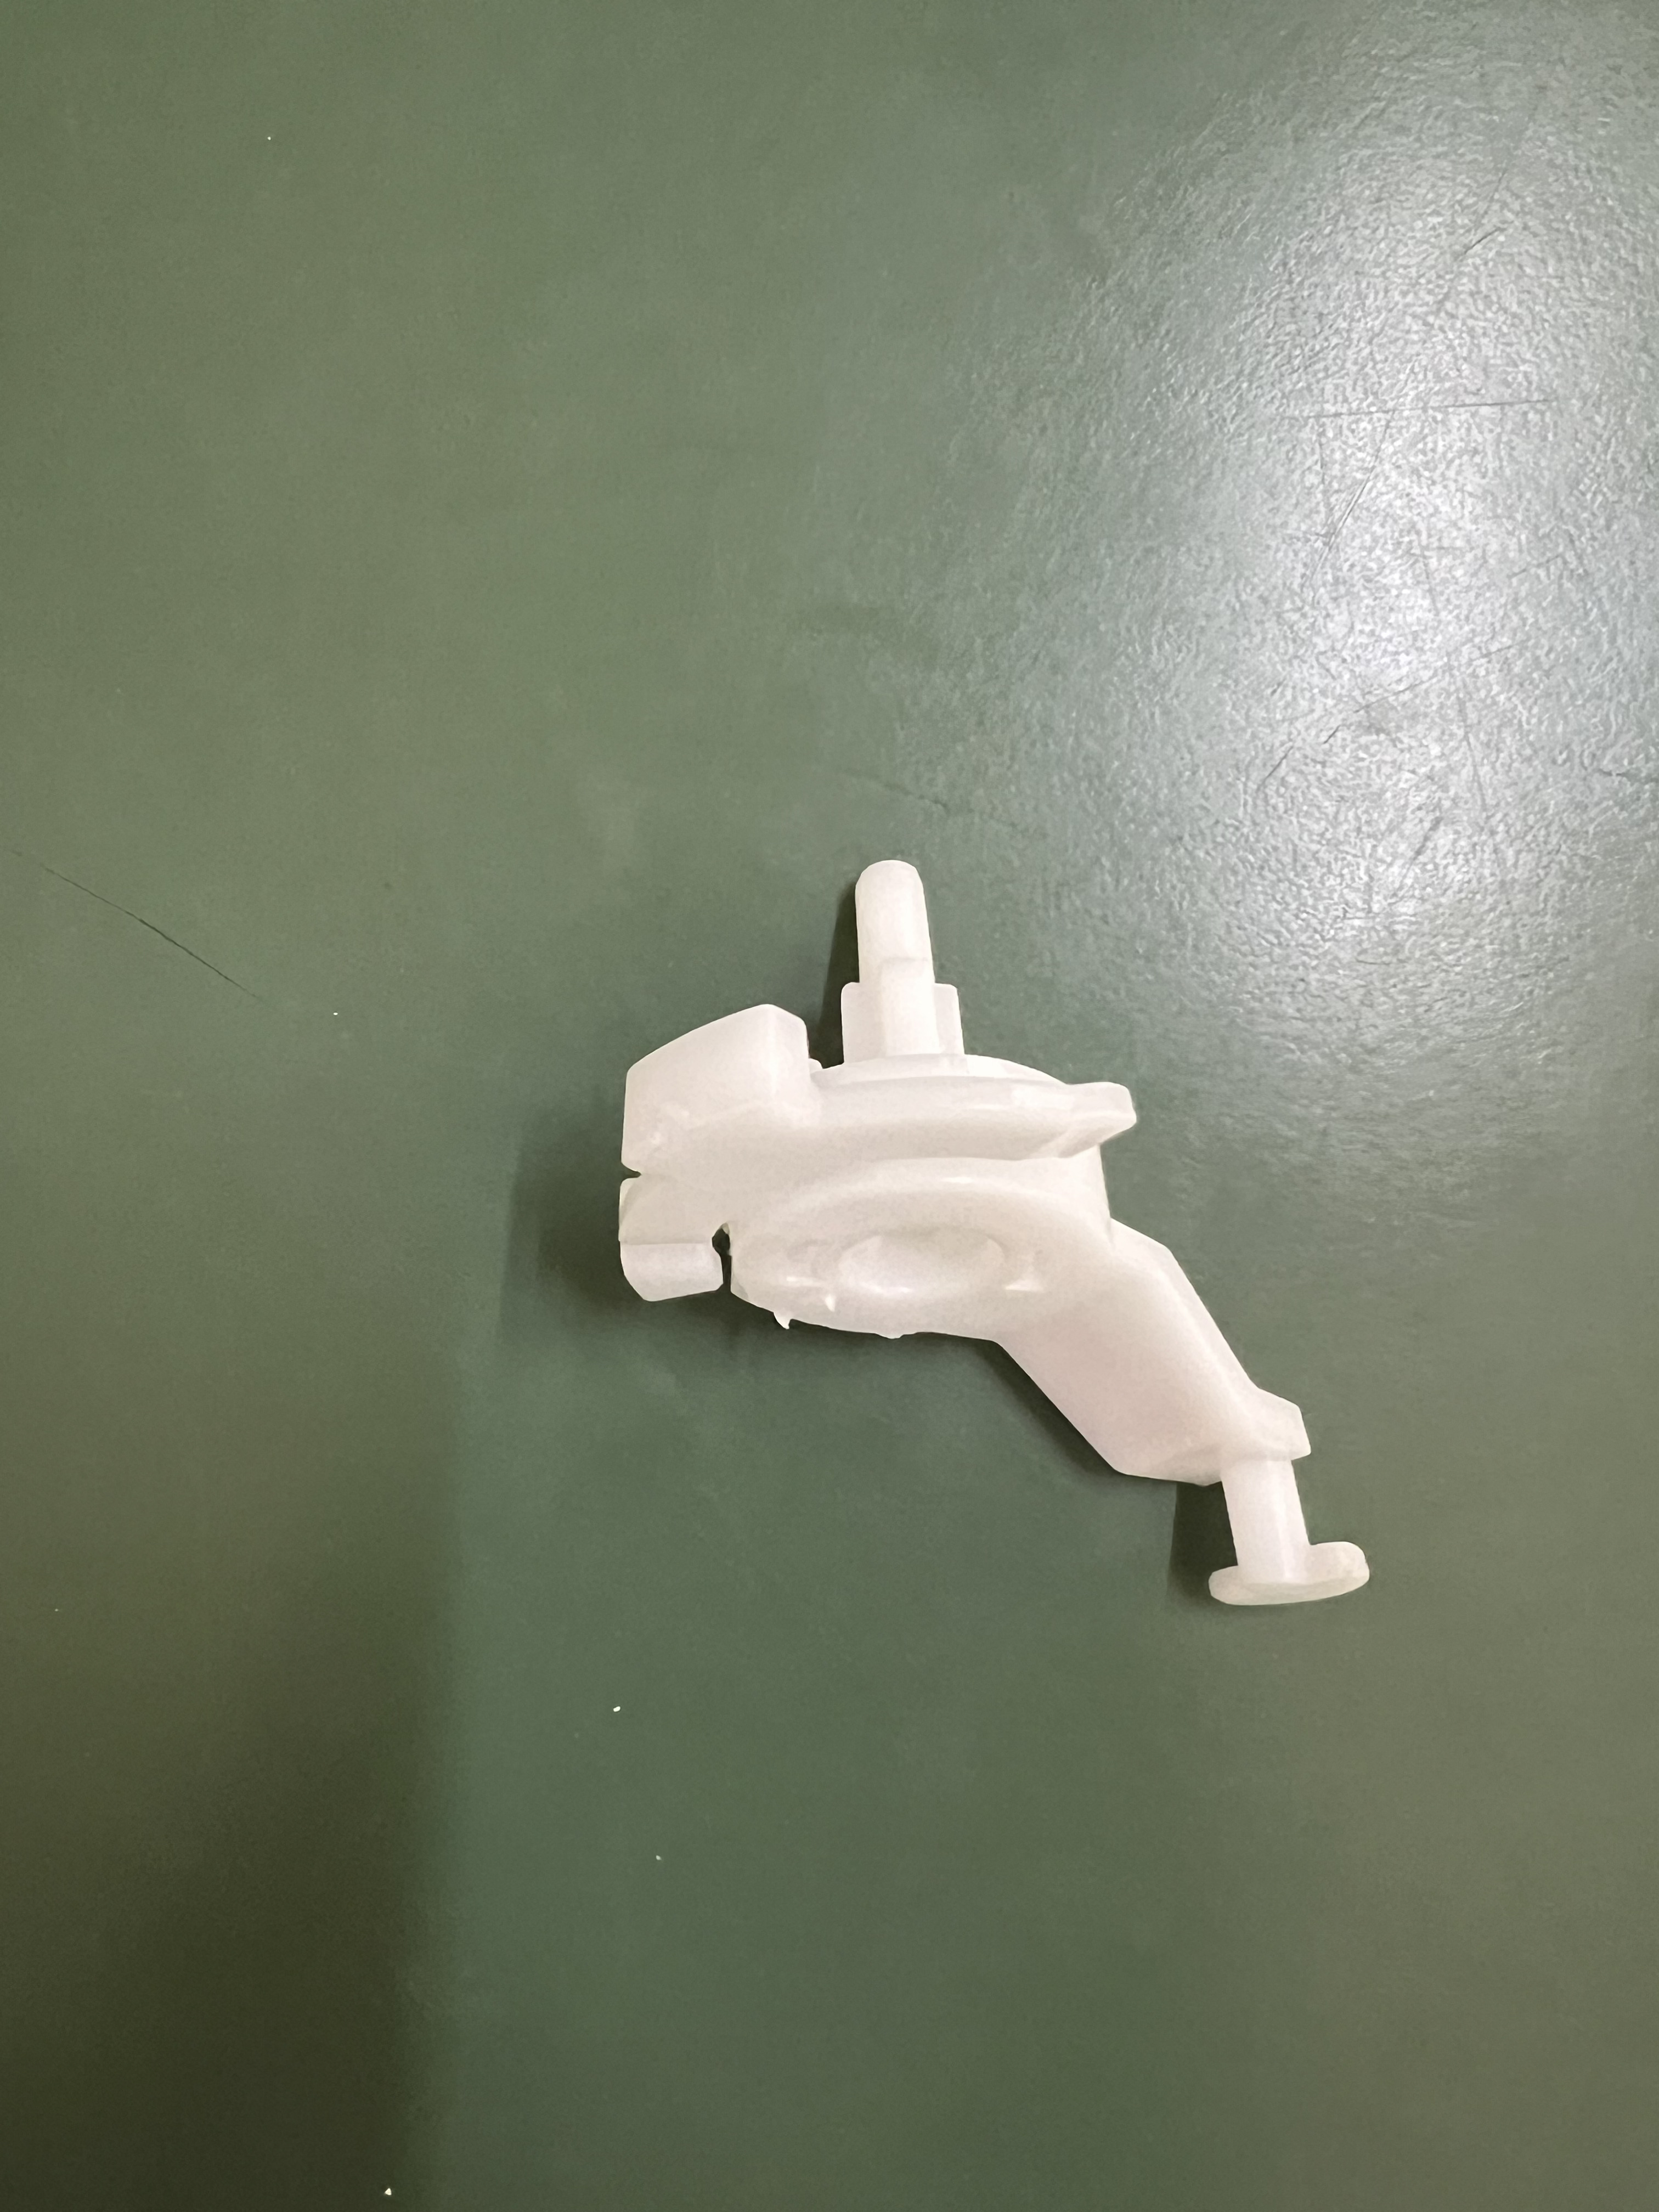drain_lever: (540, 838, 1416, 1668)
